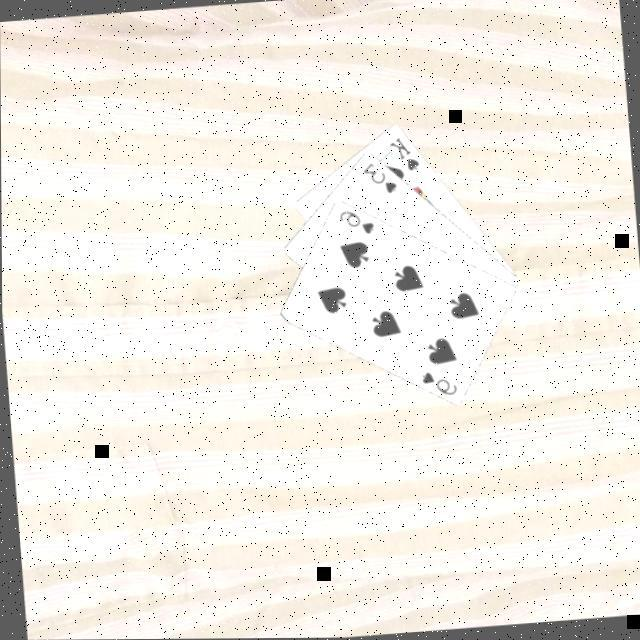3S: (356, 156, 398, 198)
6S: (332, 204, 374, 239), (415, 365, 457, 399)
KS: (383, 131, 420, 174)
